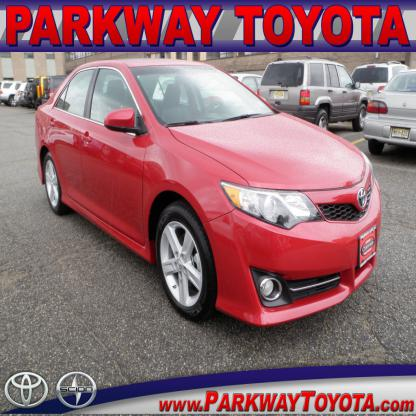Vehicle: (35, 58, 381, 329)
